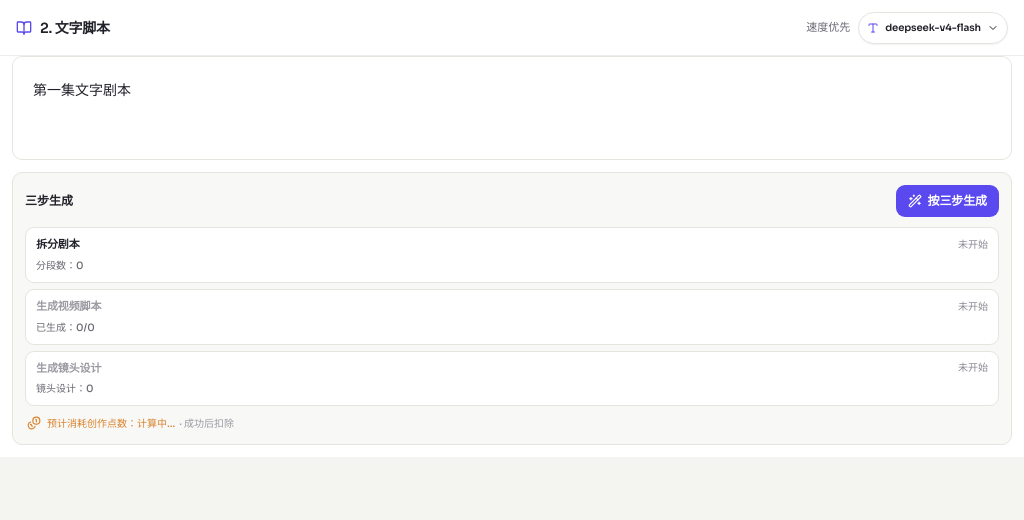
Test: QuickScriptSourceColumn › shows quick pipeline failures inline instead of requiring a browser alert
Click the button "按三步生成". click: x=947, y=201
box: [896,185,999,217]
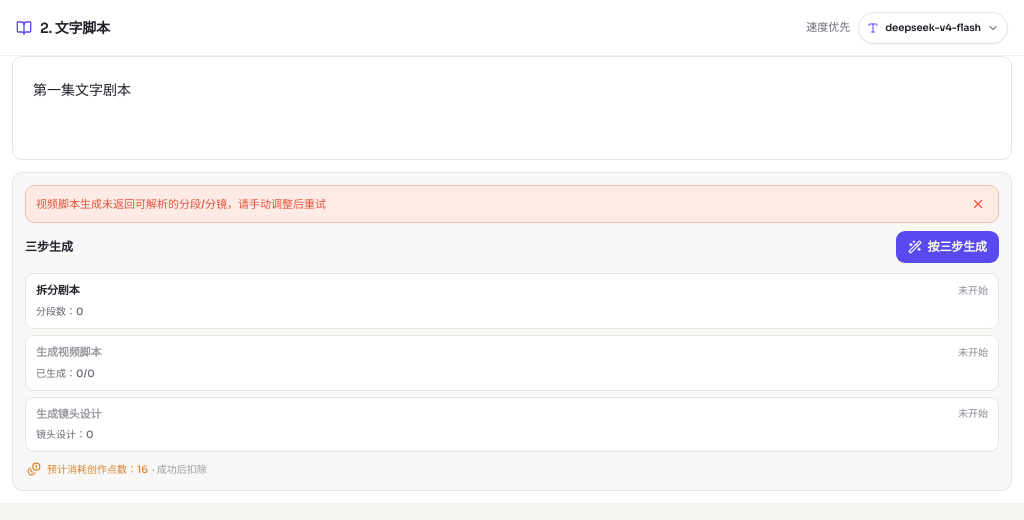
Expected: the text "视频脚本生成未返回可解析的分段/分镜，请手动调整后重试" is shown, [36,197,326,211]
